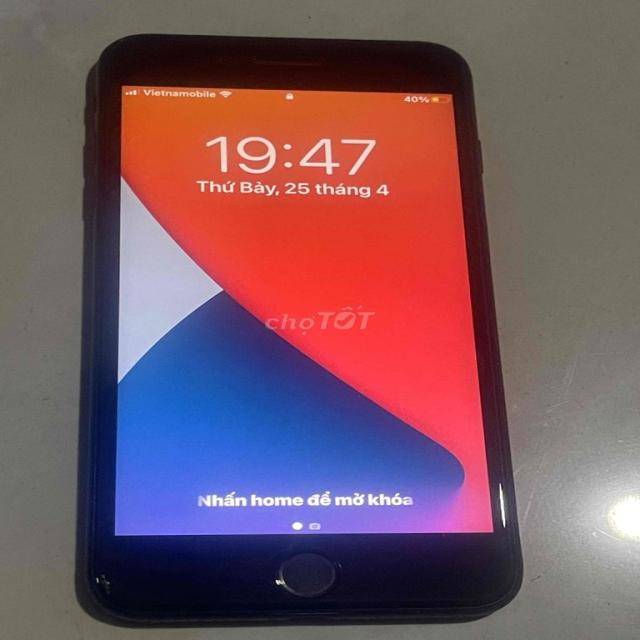scratch: (494, 472, 514, 532), (85, 564, 116, 591), (255, 570, 289, 593)
